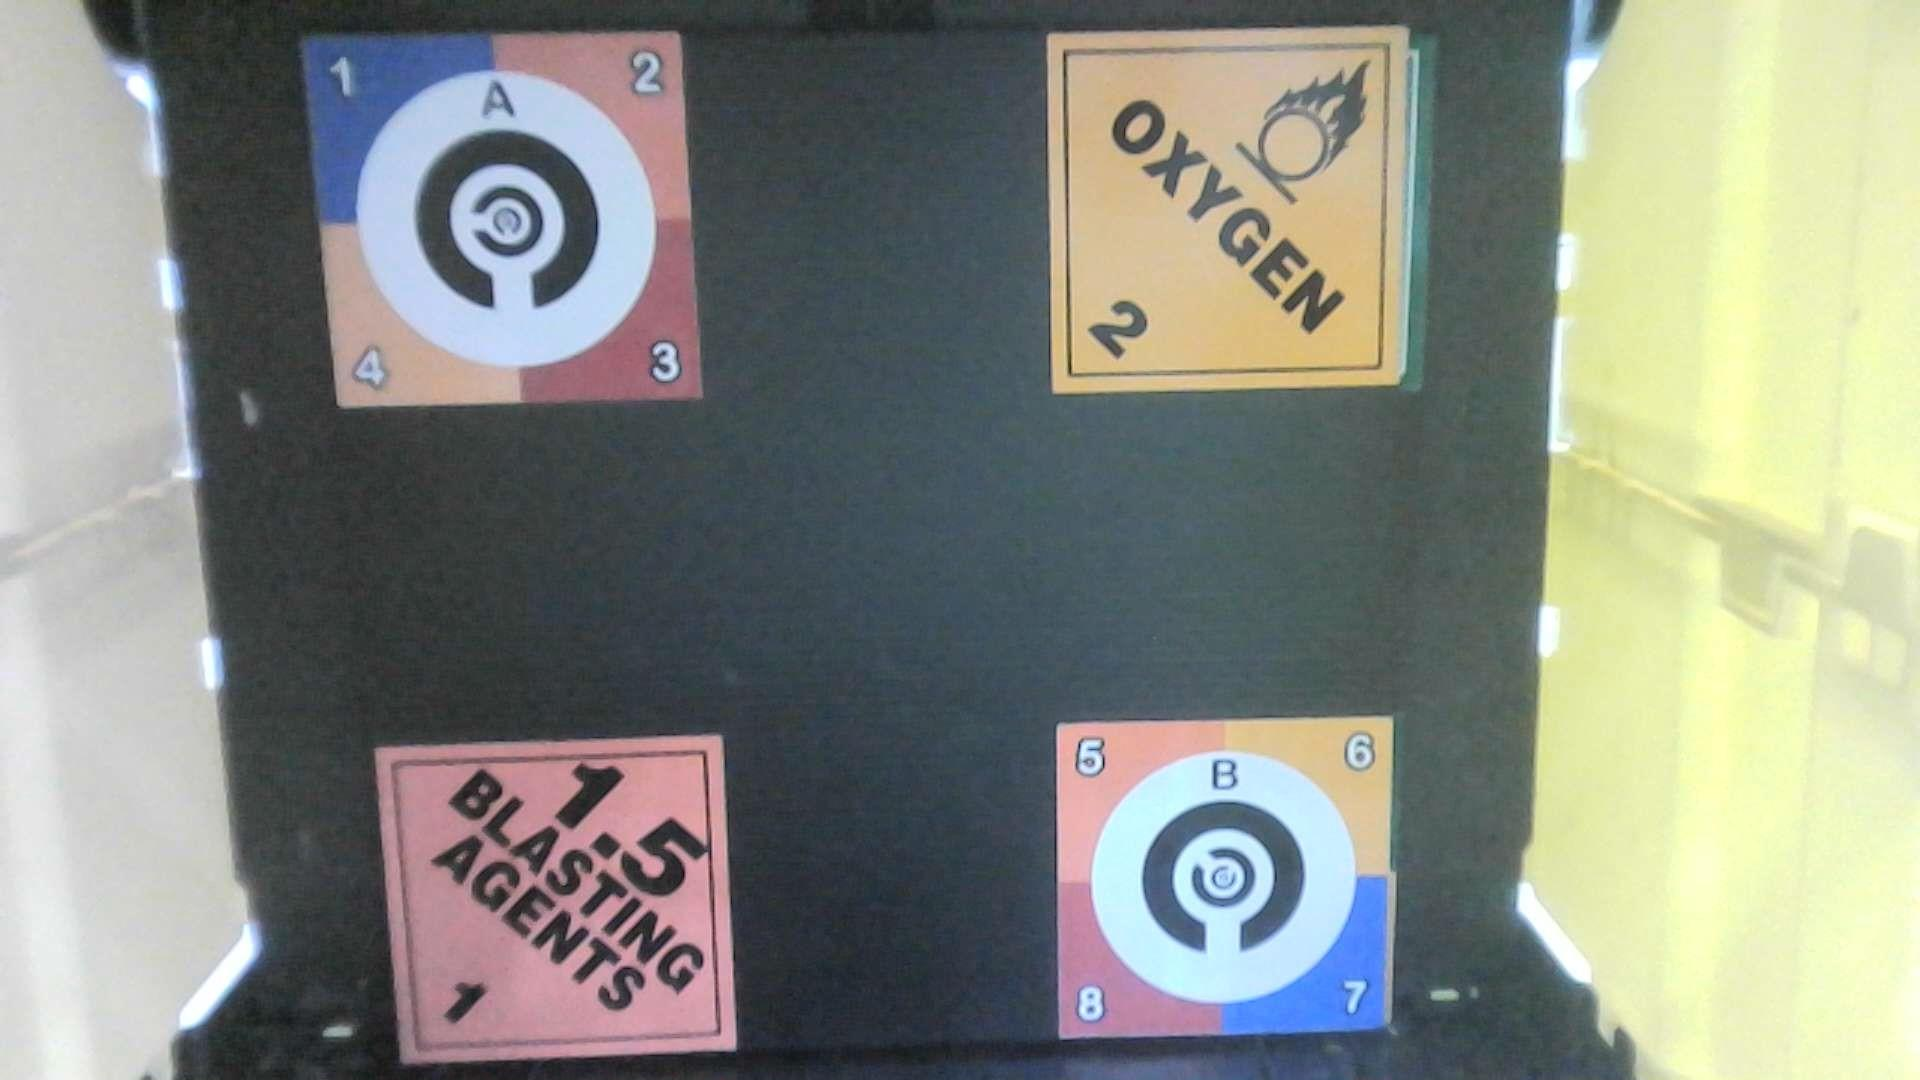explosive: (347, 732, 758, 1080)
oxidizer: (1044, 22, 1425, 401)
